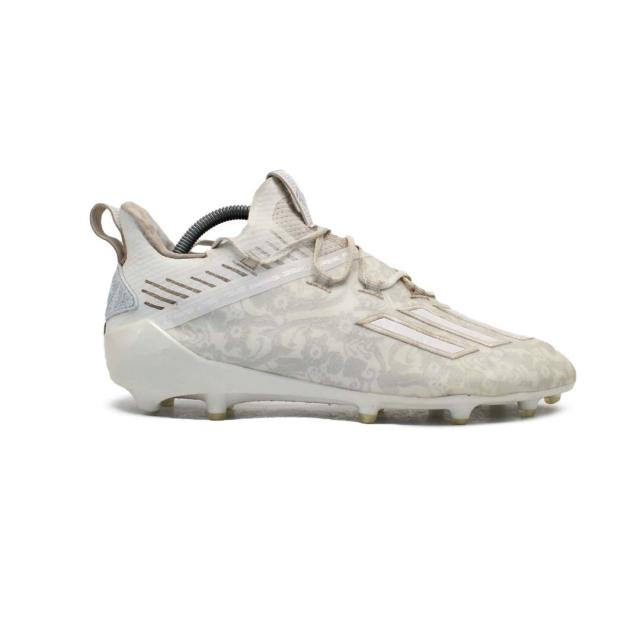heel: (93, 201, 164, 335)
midsole: (110, 322, 578, 419)
uppersole: (159, 170, 575, 398)
